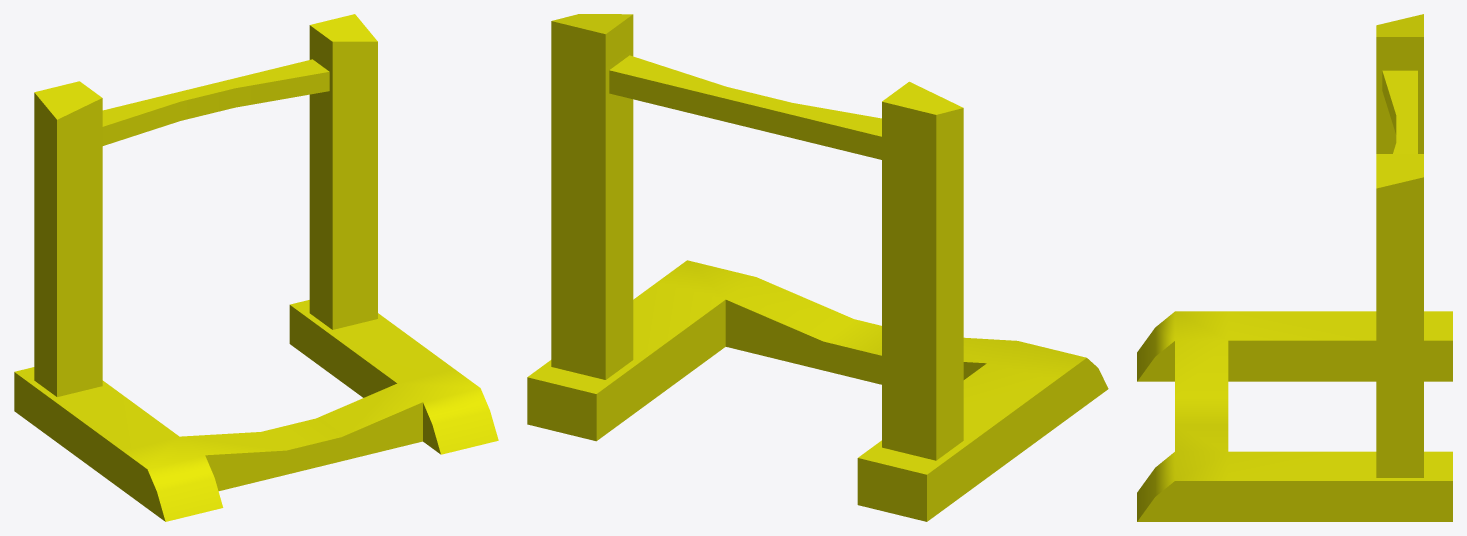
Rendered from m_rack.fbx.
The picture shows the model from 3 angles, left to right: view 1: azimuth 30°, elevation 25°; view 2: azimuth 150°, elevation 25°; view 3: azimuth 270°, elevation 25°; orthographic projection. The views are drawn at different scales.
Parts seen in each view (by area): view 1: m_rack; view 2: m_rack; view 3: m_rack.
Boxes of the visible parts, x1,y1,x2,y2 form: m_rack: (14, 14, 498, 521); m_rack: (527, 14, 1108, 521); m_rack: (1137, 14, 1452, 521).
Size of the model in its own units: 1.51 by 1.42 by 1.19.
